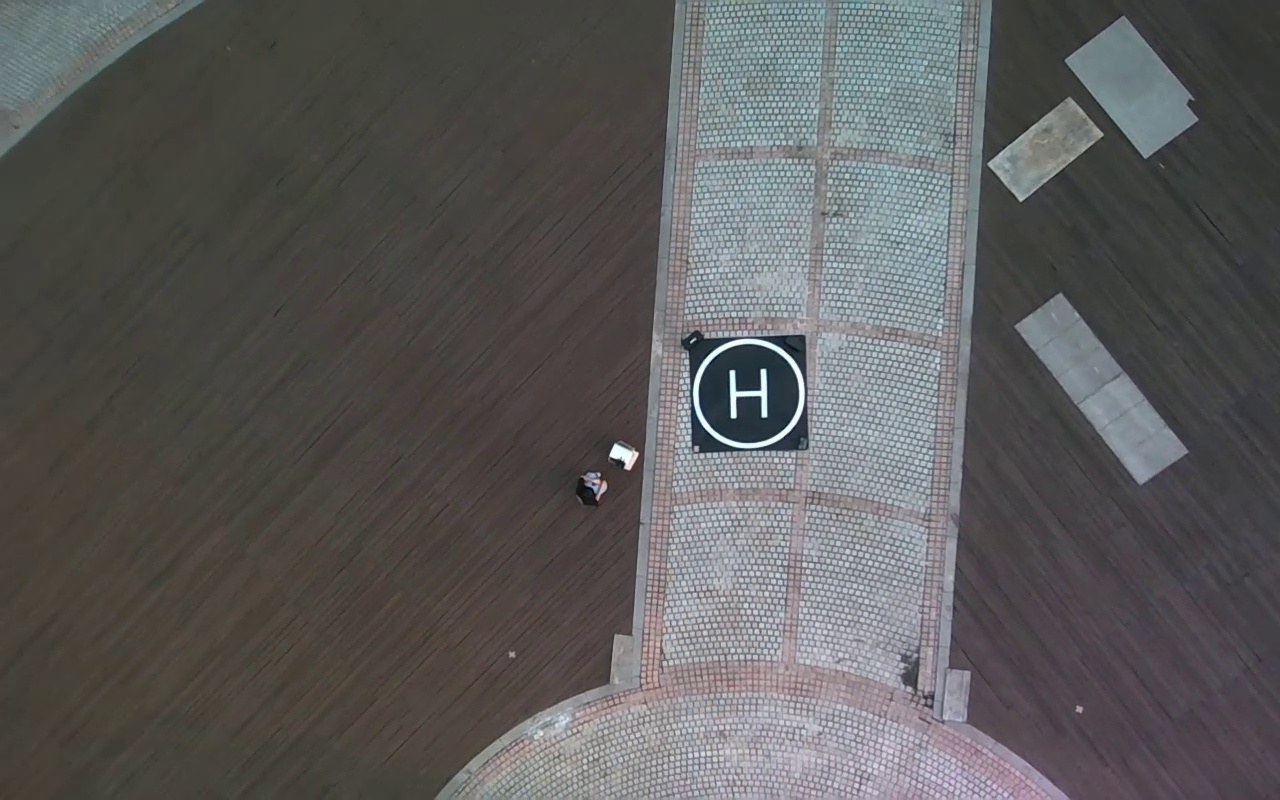H: (729, 366, 769, 420)
heliport: (693, 341, 806, 449)
